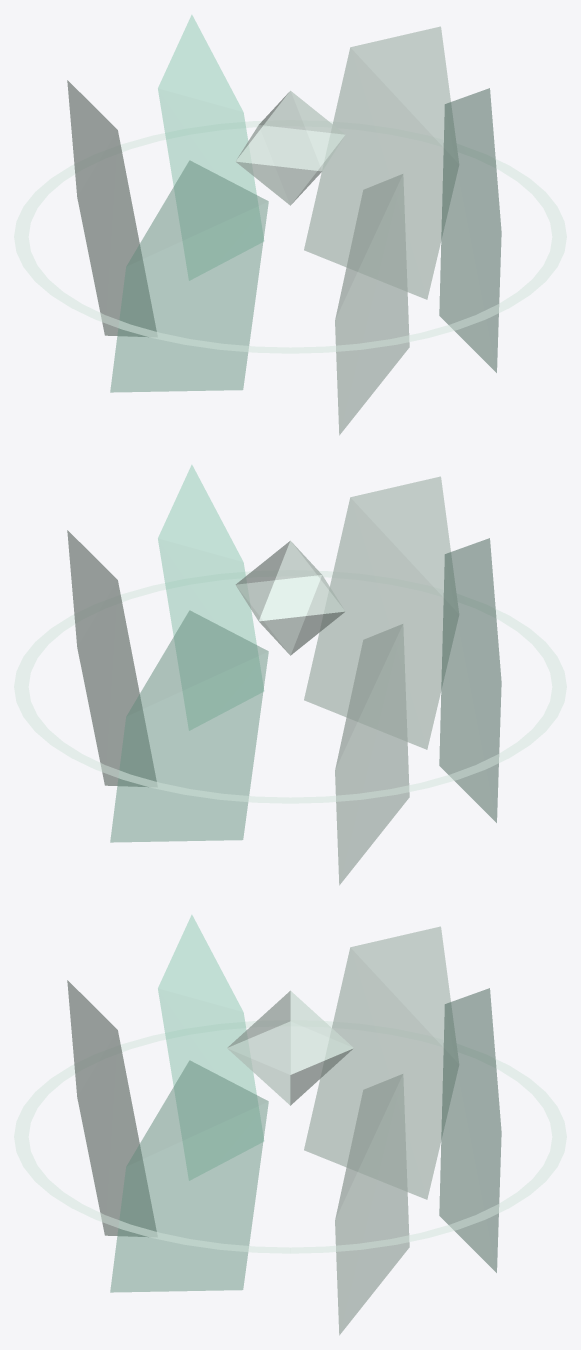
Rendered from golem_orbit_glass.obj.
3 views of the same model, one above another, from view 1: azimuth 30°, elevation 25°; view 2: azimuth 150°, elevation 25°; view 3: azimuth 270°, elevation 25° (orthographic).
Parts seen in each view (by area): view 1: glass_pane_3, glass_pane_6, glass_pane_4, glass_pane_2, glass_pane_1, glass_pane_5, thin_glass_halo, refraction_pearl; view 2: glass_pane_1, glass_pane_4, glass_pane_2, glass_pane_6, glass_pane_5, glass_pane_3, thin_glass_halo, refraction_pearl; view 3: glass_pane_5, glass_pane_2, glass_pane_6, glass_pane_4, glass_pane_3, glass_pane_1, thin_glass_halo, refraction_pearl.
Part boxes in pixels (x1=…): glass_pane_3: x1=304, y1=26, x2=458, y2=299; glass_pane_6: x1=110, y1=160, x2=268, y2=392; glass_pane_4: x1=158, y1=15, x2=264, y2=280; glass_pane_2: x1=439, y1=88, x2=501, y2=372; glass_pane_1: x1=335, y1=174, x2=409, y2=435; glass_pane_5: x1=67, y1=80, x2=156, y2=336; thin_glass_halo: x1=14, y1=121, x2=566, y2=353; refraction_pearl: x1=235, y1=90, x2=345, y2=205; glass_pane_1: x1=304, y1=476, x2=458, y2=749; glass_pane_4: x1=110, y1=610, x2=268, y2=842; glass_pane_2: x1=158, y1=465, x2=264, y2=730; glass_pane_6: x1=439, y1=538, x2=501, y2=822; glass_pane_5: x1=335, y1=624, x2=409, y2=885; glass_pane_3: x1=67, y1=530, x2=156, y2=786; thin_glass_halo: x1=14, y1=571, x2=566, y2=803; refraction_pearl: x1=235, y1=540, x2=345, y2=655; glass_pane_5: x1=304, y1=926, x2=458, y2=1199; glass_pane_2: x1=110, y1=1060, x2=268, y2=1292; glass_pane_6: x1=158, y1=915, x2=264, y2=1180; glass_pane_4: x1=439, y1=988, x2=501, y2=1272; glass_pane_3: x1=335, y1=1074, x2=409, y2=1335; glass_pane_1: x1=67, y1=980, x2=156, y2=1236; thin_glass_halo: x1=14, y1=1021, x2=566, y2=1253; refraction_pearl: x1=227, y1=990, x2=353, y2=1105.
Bounding box in the file's own units: 1.13 × 0.6083 × 1.13.
